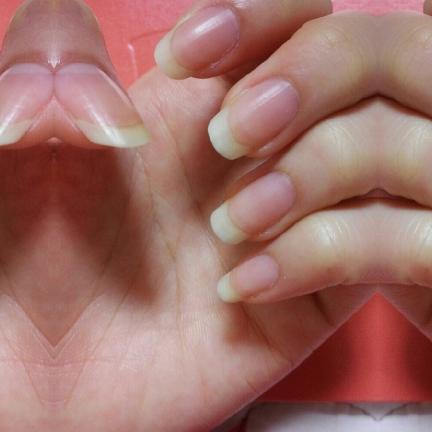Nail: (53, 60, 154, 150), (206, 77, 299, 160), (152, 5, 241, 80), (209, 172, 297, 244), (0, 60, 53, 147), (217, 255, 278, 304)
